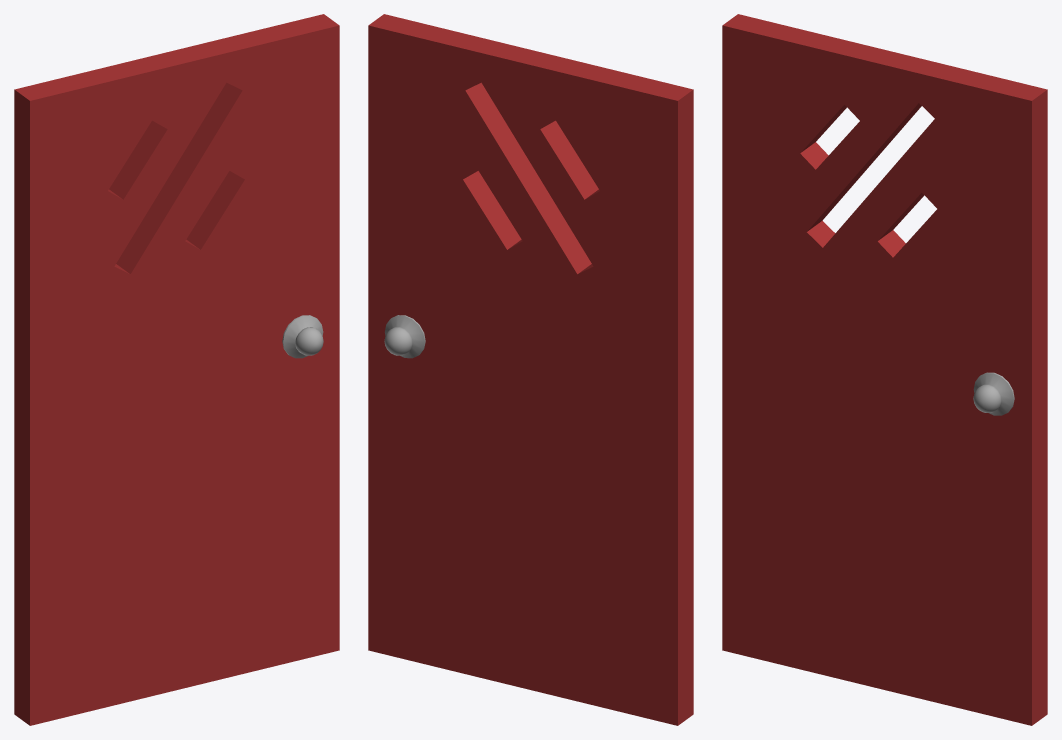
File: retro_door.fbx
The picture shows the model from 3 angles, left to right: view 1: azimuth 30°, elevation 25°; view 2: azimuth 150°, elevation 25°; view 3: azimuth 330°, elevation 25°; orthographic projection.
Parts seen in each view (by area): view 1: polySurface14, pSphere65; view 2: polySurface14, pSphere66; view 3: polySurface14, pSphere65.
Part boxes in pixels (x1=…): polySurface14: x1=14, y1=14, x2=339, y2=725; pSphere65: x1=282, y1=315, x2=323, y2=358; polySurface14: x1=368, y1=14, x2=693, y2=725; pSphere66: x1=384, y1=315, x2=425, y2=358; polySurface14: x1=722, y1=14, x2=1047, y2=725; pSphere65: x1=973, y1=372, x2=1014, y2=415.
Bounding box in the file's own units: 114 × 220 × 27.78.
